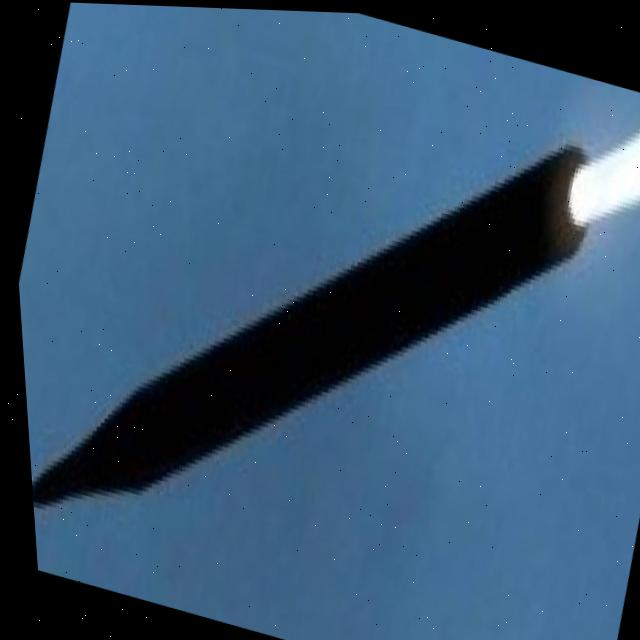missile: (0, 3, 614, 640)
